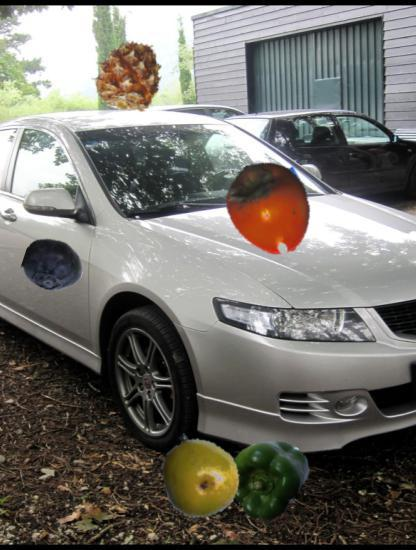Blueberry: (23, 235, 84, 296)
Kaki: (222, 159, 320, 257)
Maracuja: (156, 434, 241, 519)
Pepper: (225, 436, 311, 522)
Pineapple: (92, 38, 166, 112)
